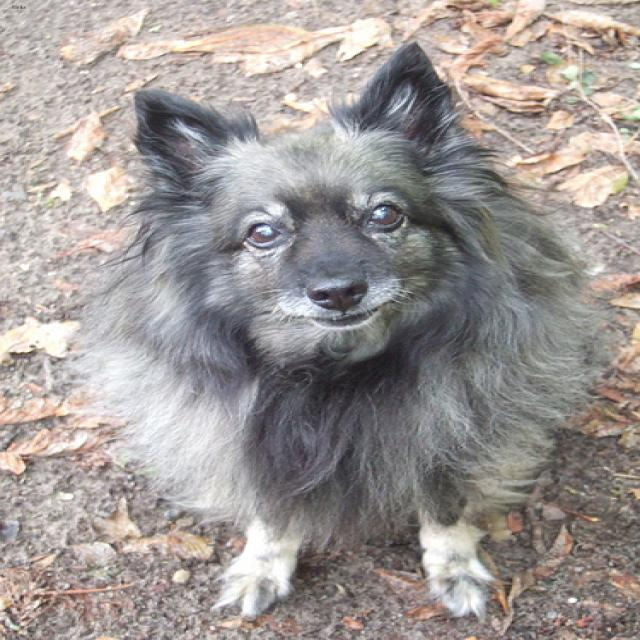dog-keeshond: (79, 32, 625, 627)
